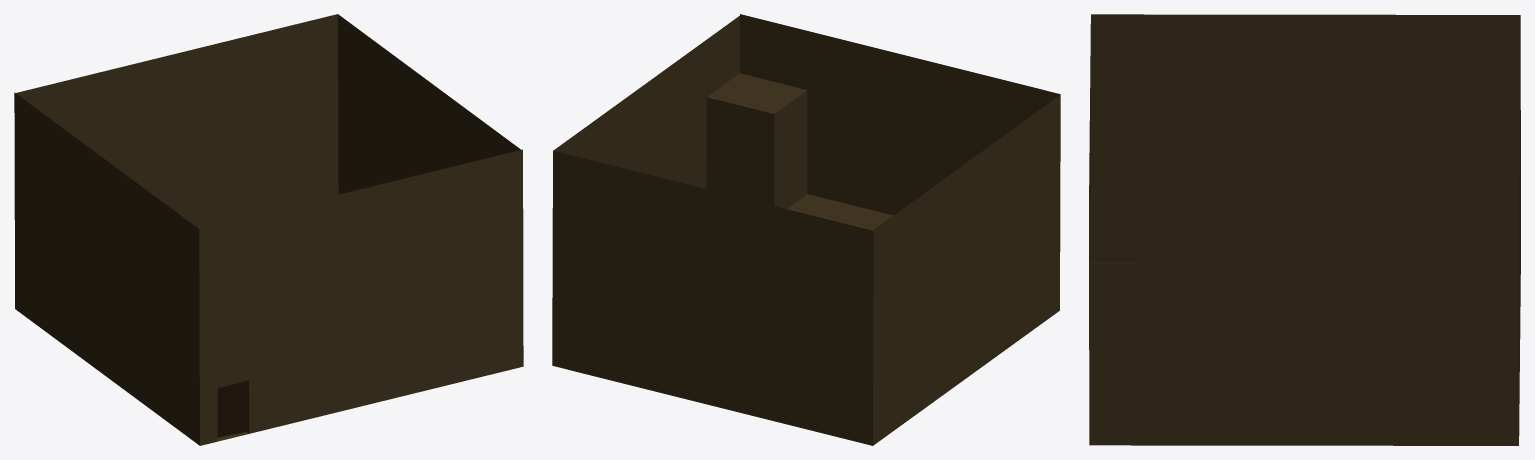
Rendered from Level 1.fbx.
3 views of the same model, side by side, from view 1: azimuth 30°, elevation 25°; view 2: azimuth 150°, elevation 25°; view 3: azimuth 270°, elevation 25° (orthographic). The views are drawn at different scales.
Parts seen in each view (by area): view 1: Plane, Cube; view 2: Plane; view 3: Plane.
Part boxes in pixels (<box>): Plane: <box>14,14,523,445</box>; Cube: <box>217,380,248,437</box>; Plane: <box>552,14,1060,445</box>; Plane: <box>1089,14,1520,445</box>.
Size of the model in its own units: 14.4 by 9.26 by 14.38.
